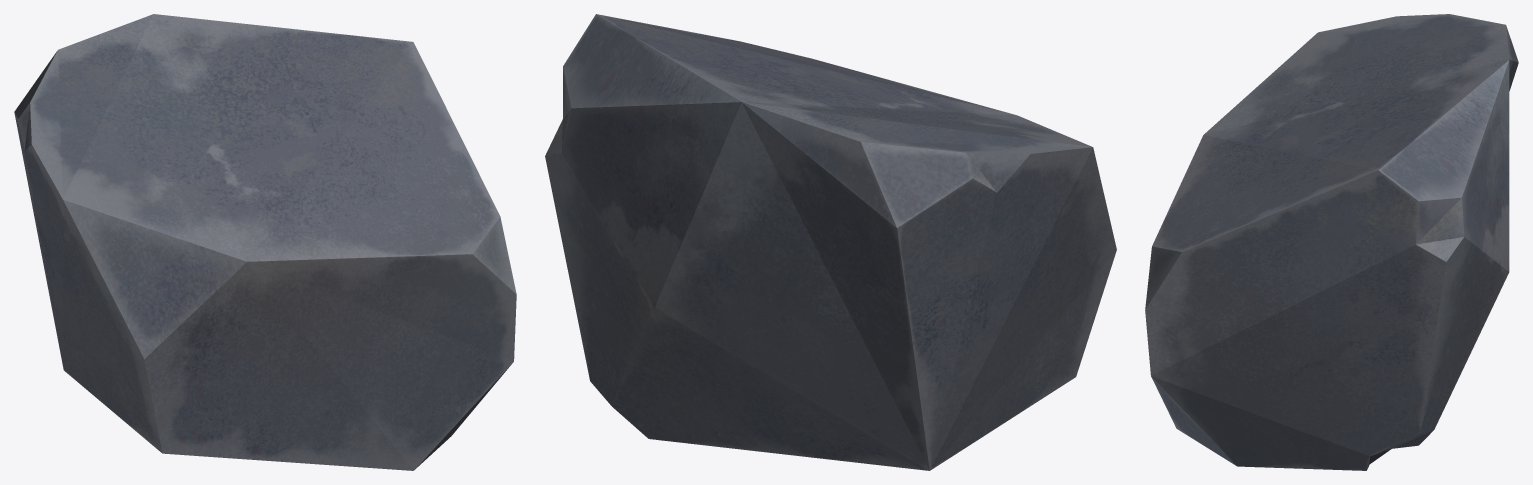
Rendered from stylized_rock_19.fbx.
3 renders of one model, left to right at view 1: azimuth 30°, elevation 25°; view 2: azimuth 150°, elevation 25°; view 3: azimuth 270°, elevation 25°, orthographic. The views are drawn at different scales.
Visible parts, largest first — view 1: stylized_rock_19; view 2: stylized_rock_19; view 3: stylized_rock_19.
Boxes of the visible parts, <box> form: stylized_rock_19: <box>14,14,516,470</box>; stylized_rock_19: <box>545,14,1116,470</box>; stylized_rock_19: <box>1145,14,1518,470</box>.
Size of the model in its own units: 77.22 by 67.04 by 67.64.
